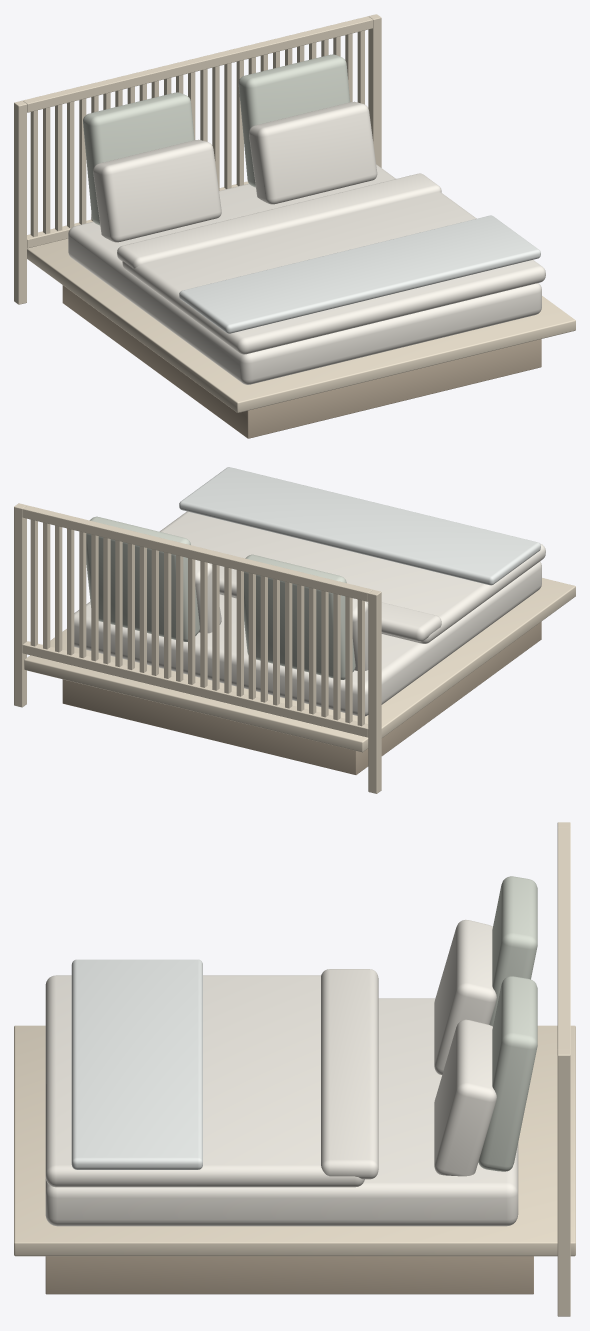
The model's file is sg_bed_queen.glb.
The picture shows the model from 3 angles, top to bottom: view 1: azimuth 30°, elevation 25°; view 2: azimuth 150°, elevation 25°; view 3: azimuth 270°, elevation 25°; orthographic projection. The views are drawn at different scales.
Parts seen in each view (by area): view 1: duvet, mattress, throw, rail, base, headslats, pillow0, pillow1, headframe, fold, euro0, euro1; view 2: headslats, throw, headframe, rail, duvet, mattress, base, euro1, euro0, fold, pillow1, pillow0; view 3: duvet, rail, mattress, throw, base, fold, pillow1, euro1, headframe, pillow0, euro0.
Boxes of the visible parts, x1,y1,x2,y2 form: duvet: (122, 192, 545, 354); mattress: (68, 164, 541, 384); throw: (179, 215, 540, 333); rail: (27, 238, 575, 412); base: (62, 285, 541, 438); headslats: (30, 30, 364, 236); pillow0: (93, 139, 221, 242); pillow1: (249, 101, 377, 204); headframe: (14, 14, 381, 304); fold: (117, 173, 441, 268); euro0: (83, 92, 194, 225); euro1: (238, 54, 350, 187); headslats: (30, 519, 364, 726); throw: (179, 467, 540, 585); headframe: (14, 503, 381, 793); rail: (24, 578, 575, 752); duvet: (159, 511, 545, 643); mattress: (74, 561, 541, 716); base: (62, 621, 541, 774); euro1: (86, 516, 199, 641); euro0: (244, 554, 355, 679); fold: (210, 563, 441, 641); pillow1: (195, 560, 221, 633); pillow0: (352, 598, 368, 670); duvet: (45, 975, 364, 1187); rail: (14, 1025, 575, 1256); mattress: (45, 998, 518, 1226); throw: (71, 959, 202, 1169); base: (45, 1256, 533, 1294); fold: (321, 969, 378, 1179); pillow1: (434, 1019, 496, 1176); euro1: (478, 976, 537, 1171); headframe: (557, 822, 570, 1316); pillow0: (434, 919, 496, 1074); euro0: (489, 876, 537, 1026).
Bounding box in the file's own units: 2.1 × 1.1 × 2.14.
